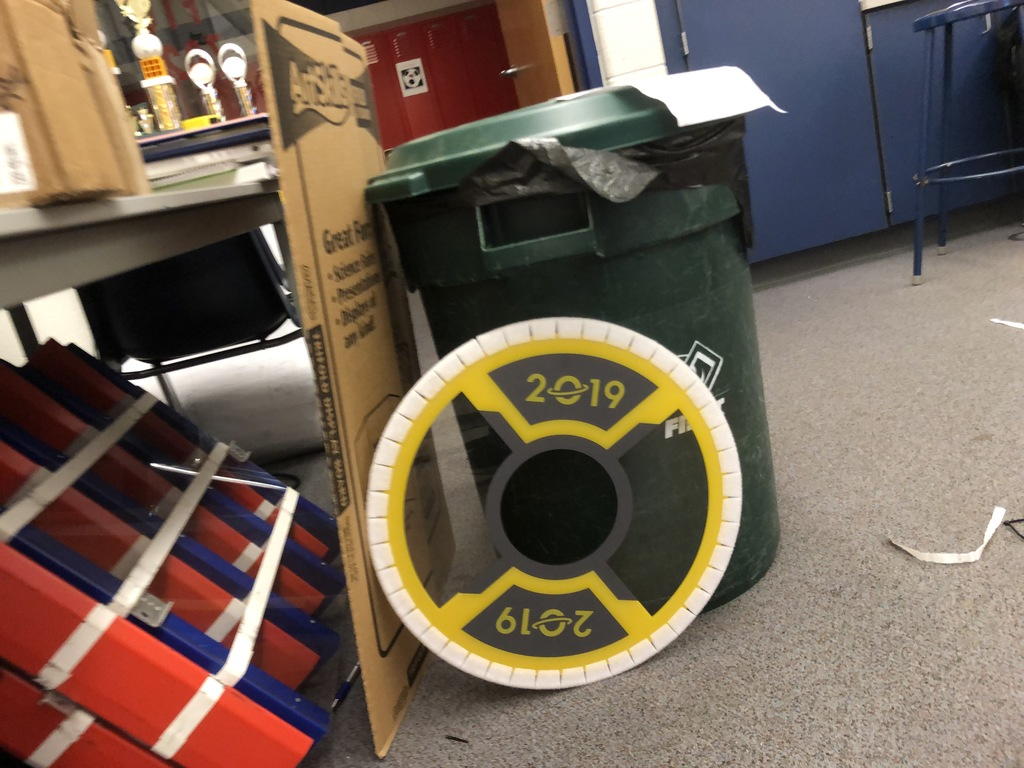hatch_panel: (358, 311, 773, 713)
